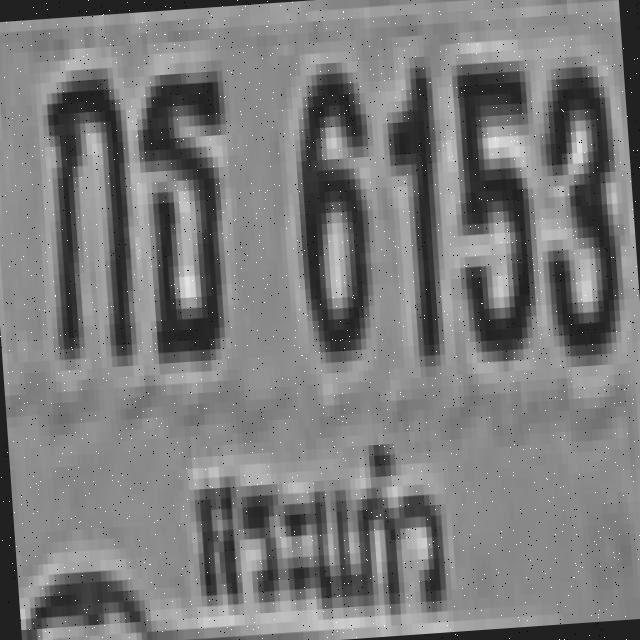1: (378, 56, 446, 358)
10GorGai: (34, 62, 132, 355)
3: (529, 55, 622, 346)
33ThorThong: (133, 60, 236, 353)
5: (444, 50, 538, 352)
6: (283, 50, 377, 353)
SaKaeo: (180, 414, 461, 640)
